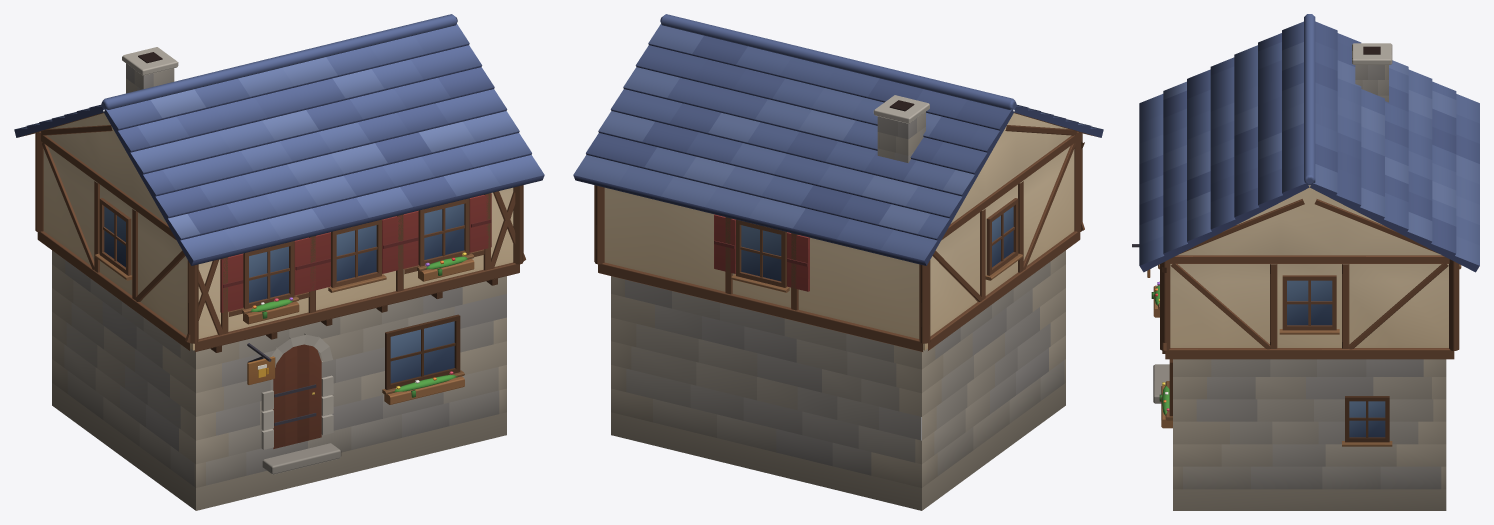
Rendered from house_b.glb.
3 views of the same model, side by side, from view 1: azimuth 30°, elevation 25°; view 2: azimuth 150°, elevation 25°; view 3: azimuth 270°, elevation 25° (orthographic). The views are drawn at different scales.
Parts seen in each view (by area): view 1: house_b; view 2: house_b; view 3: house_b.
Part boxes in pixels (x1,y1,x2,y2): house_b: (14, 14, 544, 510); house_b: (573, 14, 1103, 510); house_b: (1132, 14, 1479, 510).
Bounding box in the file's own units: 8.06 × 7.92 × 7.25.
